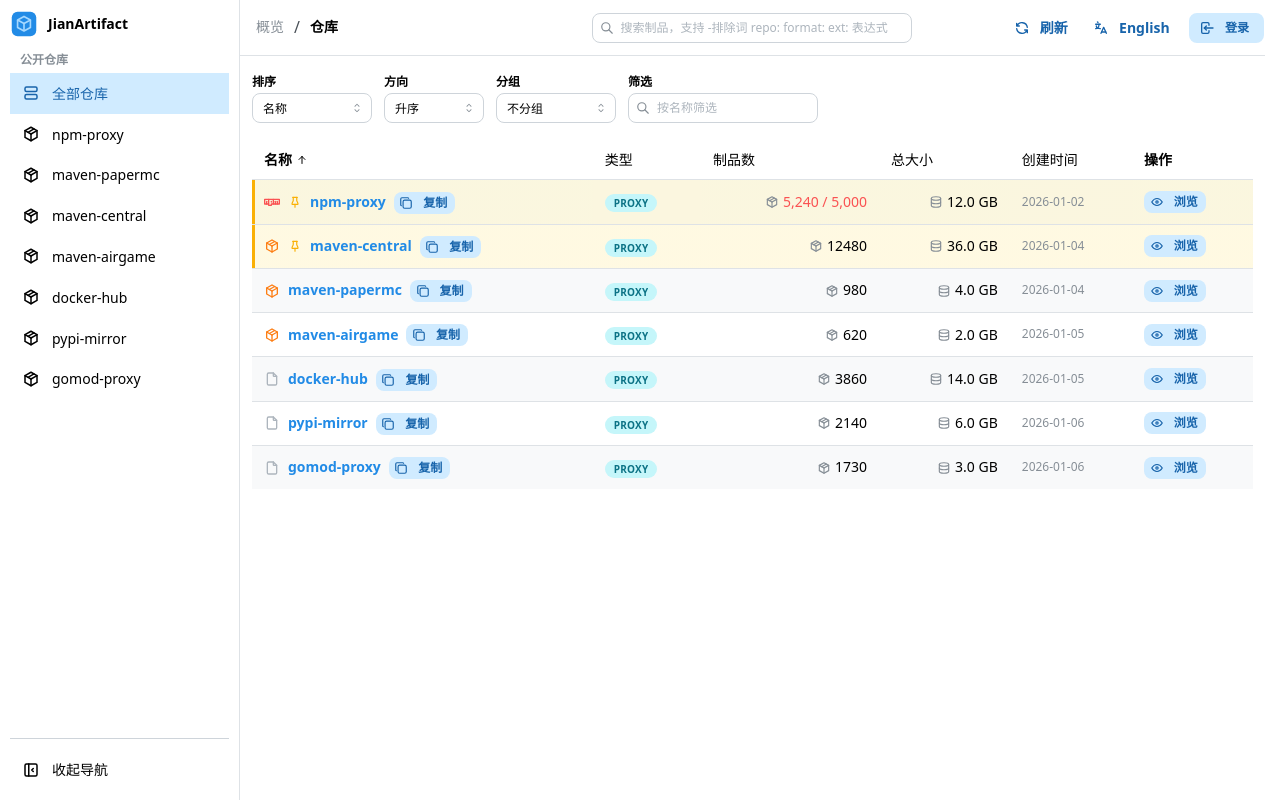
Test: 格式化输出跟随语言 › 时间格式在切换后按当前语言重算，不沿用旧语言（模块级常量缺陷的回归守卫）
This screenshot has width=1280, height=800.
Check: the button "刷新" is shown, box [1007, 14, 1077, 40]
Click the button with aria-label "切换语言". click: coordinates (1133, 28)
box: [1087, 14, 1179, 40]
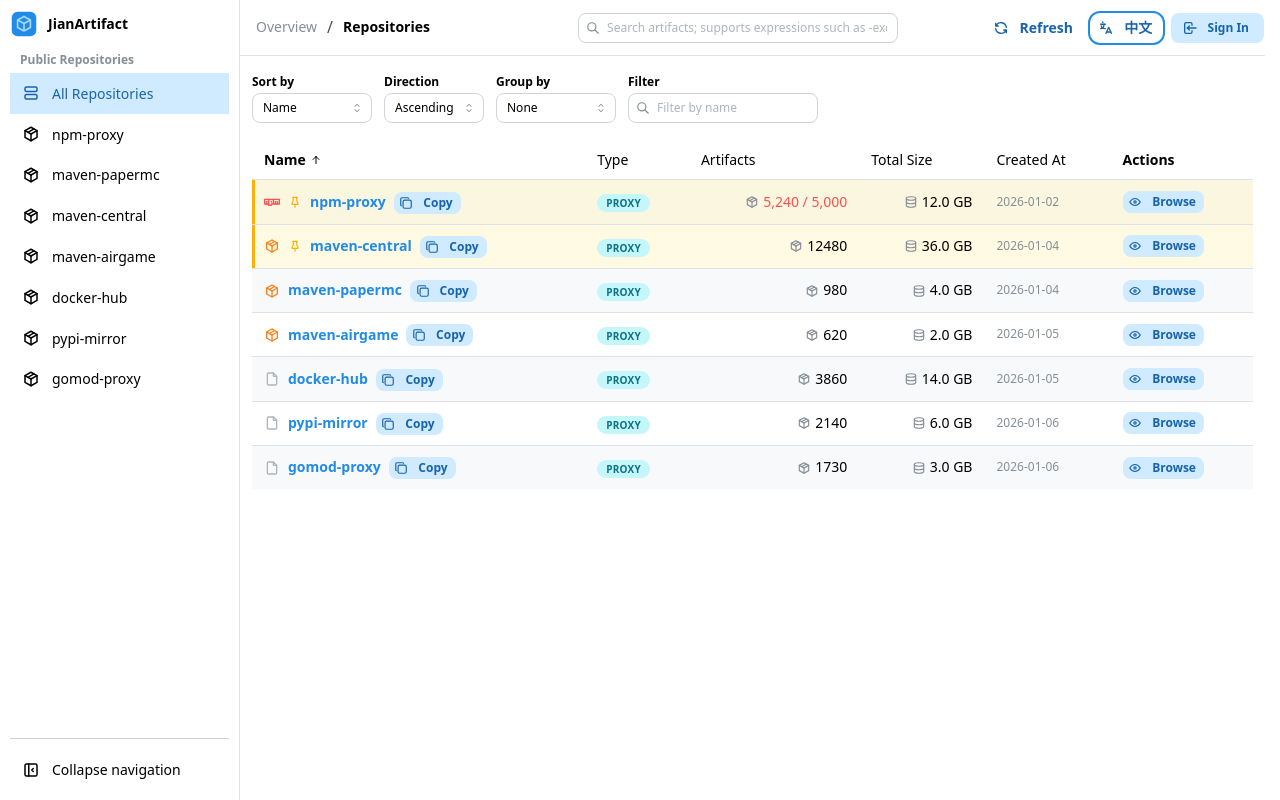
Check: the button "Refresh" is shown, box [987, 14, 1082, 40]
